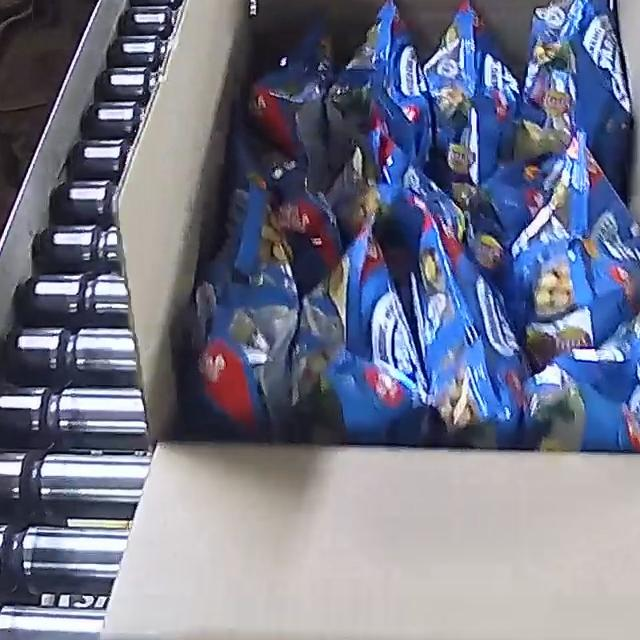paprika: (187, 0, 640, 453)
